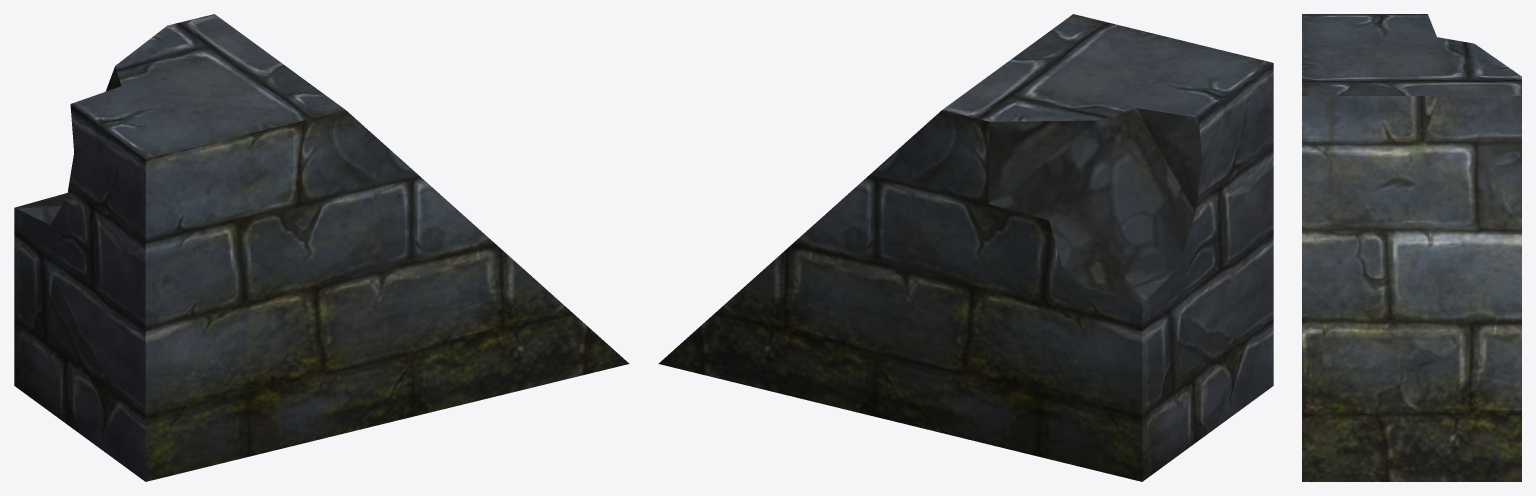
The model's file is C_louti001.fbx.
The picture shows the model from 3 angles, left to right: view 1: azimuth 30°, elevation 25°; view 2: azimuth 150°, elevation 25°; view 3: azimuth 270°, elevation 25°; orthographic projection. The views are drawn at different scales.
Visible parts, largest first — view 1: C_louti001; view 2: C_louti001; view 3: C_louti001.
Part boxes in pixels (x1=…): C_louti001: x1=14, y1=14, x2=629, y2=481; C_louti001: x1=658, y1=14, x2=1273, y2=481; C_louti001: x1=1302, y1=14, x2=1521, y2=481.
Bounding box in the file's own units: 216 × 138 × 102.
